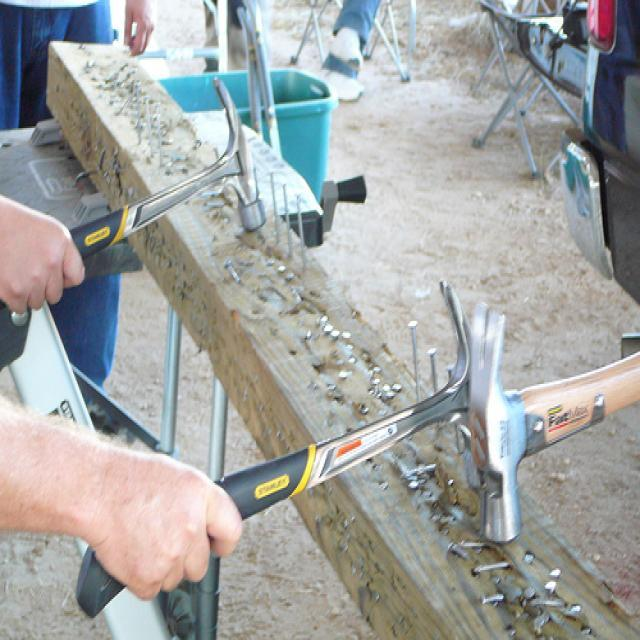hammer: (58, 270, 480, 628), (0, 64, 276, 286), (463, 288, 640, 560)
